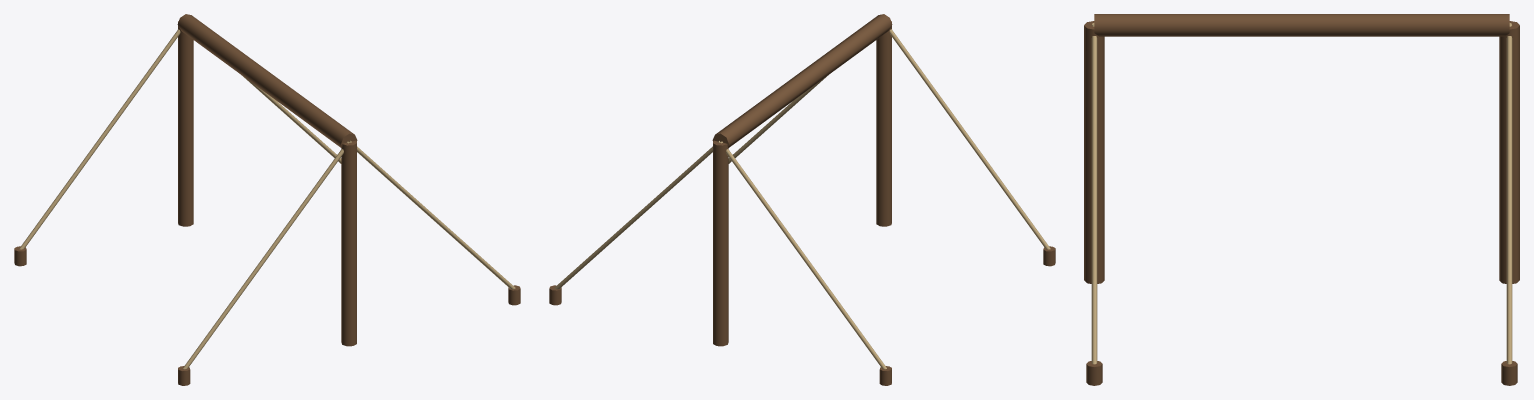
The model's file is tent_frame.glb.
3 views of the same model, side by side, from view 1: azimuth 30°, elevation 25°; view 2: azimuth 150°, elevation 25°; view 3: azimuth 270°, elevation 25° (orthographic). The views are drawn at different scales.
Parts seen in each view (by area): view 1: batch_tent_frame_0, batch_tent_frame_1; view 2: batch_tent_frame_0, batch_tent_frame_1; view 3: batch_tent_frame_0, batch_tent_frame_1.
Part boxes in pixels (bbox=[...]): batch_tent_frame_0: bbox=[14, 14, 520, 385]; batch_tent_frame_1: bbox=[19, 29, 515, 369]; batch_tent_frame_0: bbox=[549, 14, 1055, 385]; batch_tent_frame_1: bbox=[554, 29, 1050, 369]; batch_tent_frame_0: bbox=[1084, 14, 1519, 385]; batch_tent_frame_1: bbox=[1091, 23, 1512, 364].
Size of the model in its own units: 2.17 by 1.27 by 1.89.
